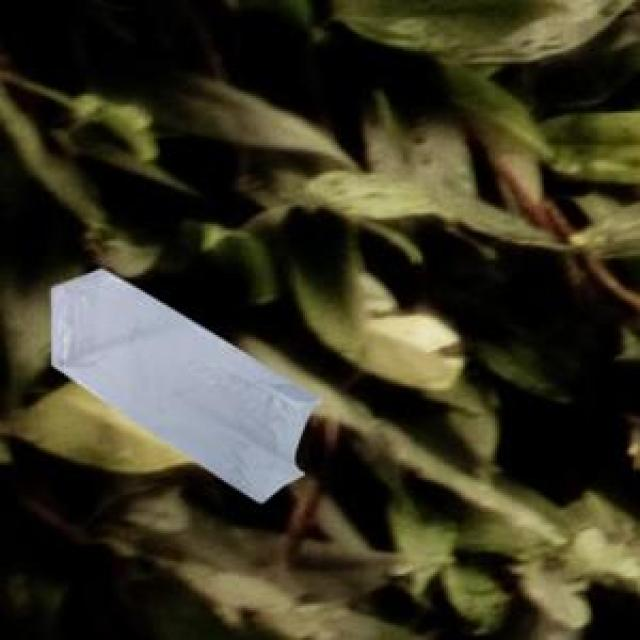plastic: (41, 247, 384, 523)
